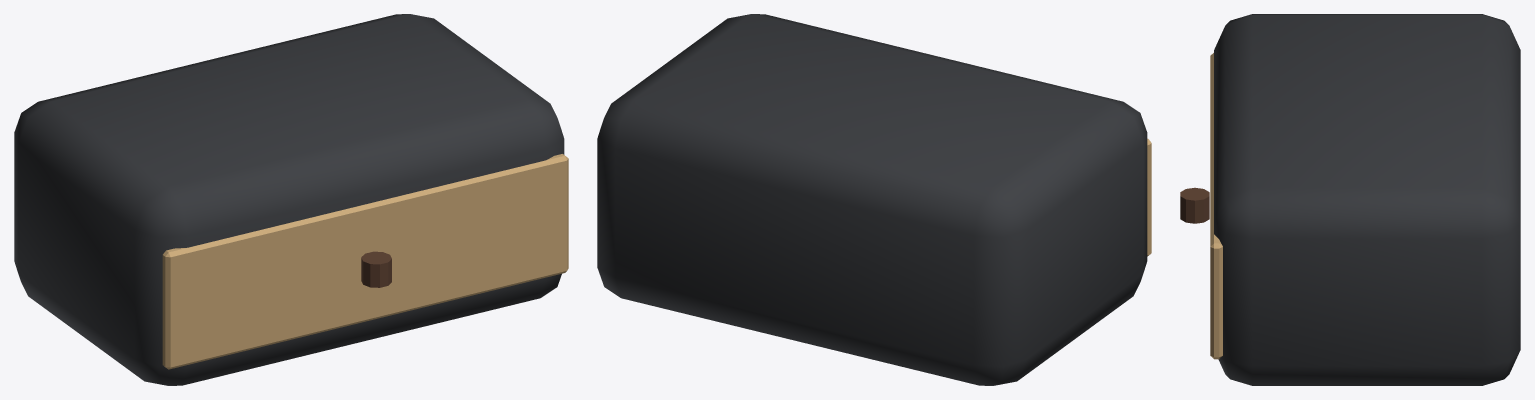
Rendered from i_kit_5.glb.
3 renders of one model, left to right at view 1: azimuth 30°, elevation 25°; view 2: azimuth 150°, elevation 25°; view 3: azimuth 270°, elevation 25°, orthographic.
Visible parts, largest first — view 1: o, o.001, o.002; view 2: o, o.001; view 3: o, o.001, o.002.
Part boxes in pixels (x1=…): o: x1=14, y1=14, x2=564, y2=385; o.001: x1=162, y1=154, x2=568, y2=369; o.002: x1=361, y1=251, x2=391, y2=287; o: x1=597, y1=14, x2=1147, y2=385; o.001: x1=1147, y1=138, x2=1151, y2=256; o: x1=1214, y1=14, x2=1520, y2=385; o.001: x1=1210, y1=53, x2=1222, y2=359; o.002: x1=1180, y1=187, x2=1209, y2=223.
Bounding box in the file's own units: 0.38 × 0.17 × 0.2664.
